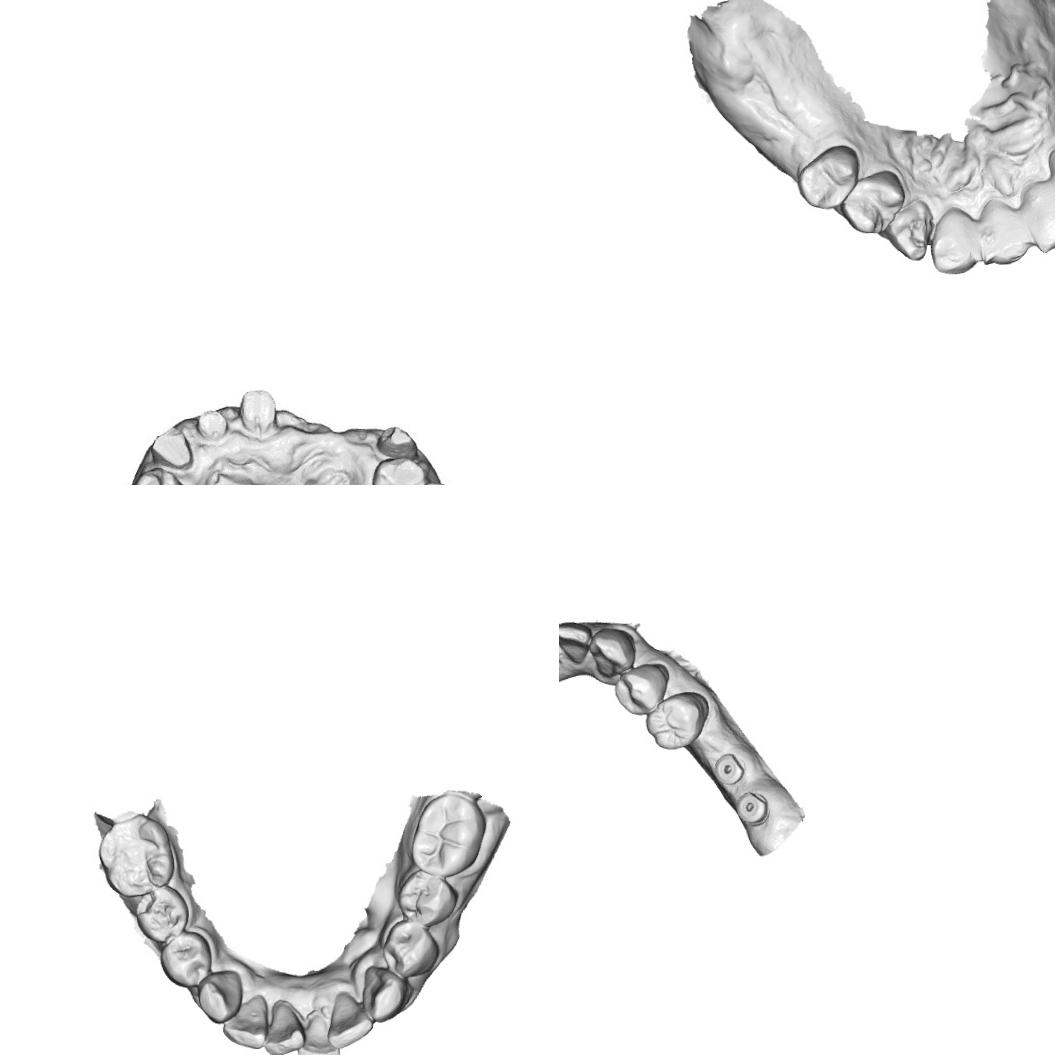canine: (884, 197, 936, 266), (358, 962, 412, 1025), (194, 967, 246, 1026), (587, 625, 637, 680)
crown: (239, 386, 276, 430), (373, 422, 416, 459), (190, 398, 226, 440), (154, 432, 195, 466)
implant: (734, 789, 770, 827), (712, 752, 746, 788)
incisor: (973, 191, 1033, 269), (927, 202, 982, 278), (323, 989, 375, 1052), (219, 993, 272, 1052), (1016, 185, 1055, 257), (260, 998, 308, 1055), (292, 1010, 344, 1055), (559, 618, 594, 666)
molar: (94, 812, 179, 901), (404, 790, 488, 880)
premolar: (794, 143, 863, 212), (839, 168, 907, 238), (394, 866, 460, 932), (643, 690, 712, 751), (377, 919, 441, 981), (130, 886, 192, 948), (157, 928, 215, 989), (612, 662, 672, 717), (366, 454, 424, 485), (133, 463, 190, 485)
